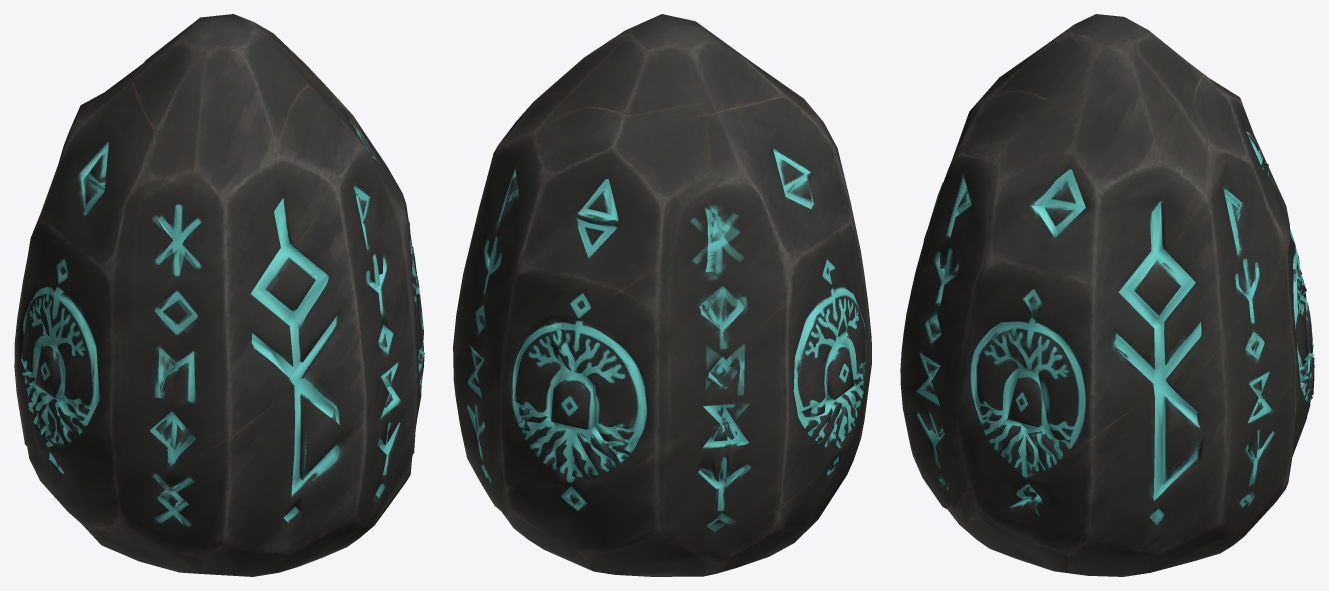
Rendered from nucleo-linde.glb.
3 renders of one model, left to right at view 1: azimuth 30°, elevation 25°; view 2: azimuth 150°, elevation 25°; view 3: azimuth 270°, elevation 25°, orthographic.
Parts seen in each view (by area): view 1: tripo_node_09d7fa2f-80db-4cb8-91f0-33149964646e; view 2: tripo_node_09d7fa2f-80db-4cb8-91f0-33149964646e; view 3: tripo_node_09d7fa2f-80db-4cb8-91f0-33149964646e.
Part boxes in pixels (x1,y1,x2,y2): tripo_node_09d7fa2f-80db-4cb8-91f0-33149964646e: [14, 14, 424, 576]; tripo_node_09d7fa2f-80db-4cb8-91f0-33149964646e: [453, 14, 871, 576]; tripo_node_09d7fa2f-80db-4cb8-91f0-33149964646e: [900, 14, 1314, 576].
Bounding box in the file's own units: 0.7481 × 0.9809 × 0.7335.
Materials: 1 (1 with a texture image).
